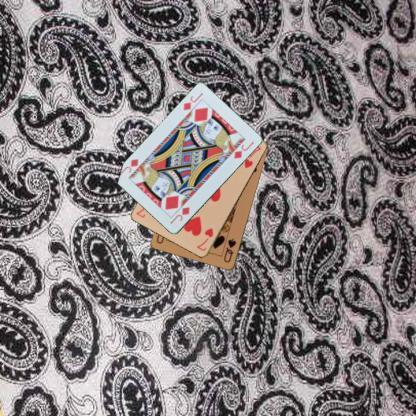7h: (194, 225, 214, 252)
Jd: (168, 204, 191, 226), (181, 90, 204, 112)
Qs: (221, 236, 238, 264)
